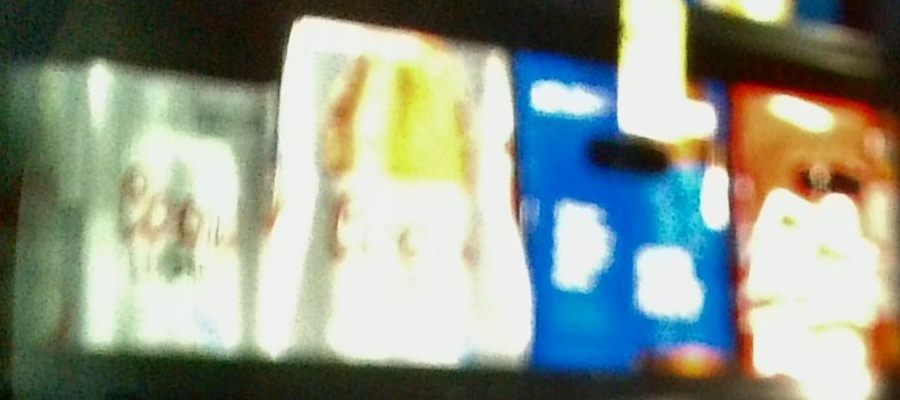bottle: (267, 12, 514, 355), (23, 64, 261, 354), (519, 56, 729, 374), (733, 82, 900, 374)
